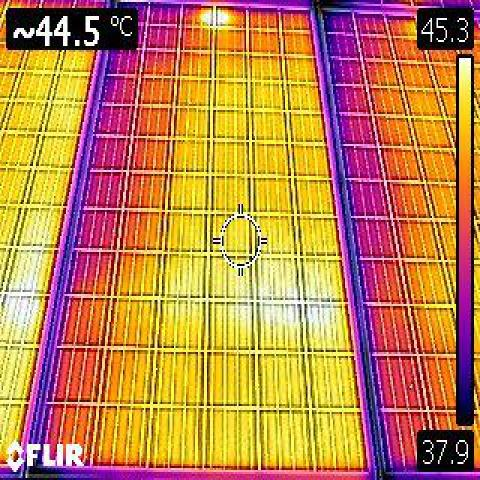fault: (238, 272, 335, 337), (0, 231, 49, 335), (198, 4, 232, 29)
